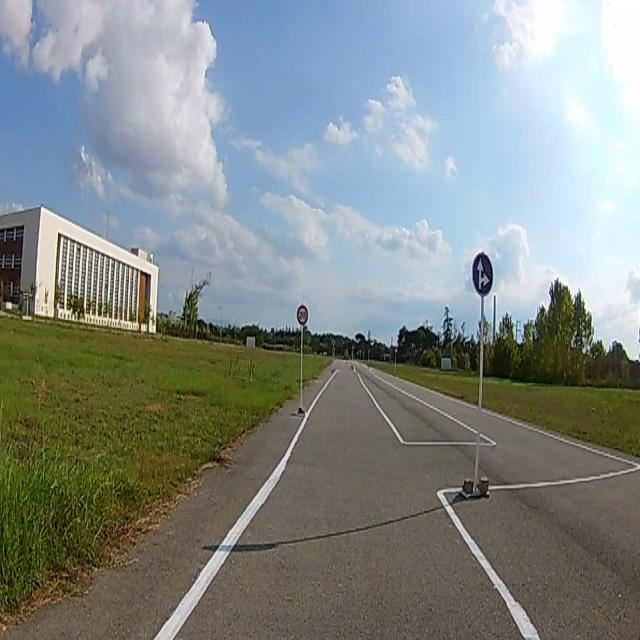20: (296, 304, 310, 327)
ilerisag: (472, 253, 493, 294)
